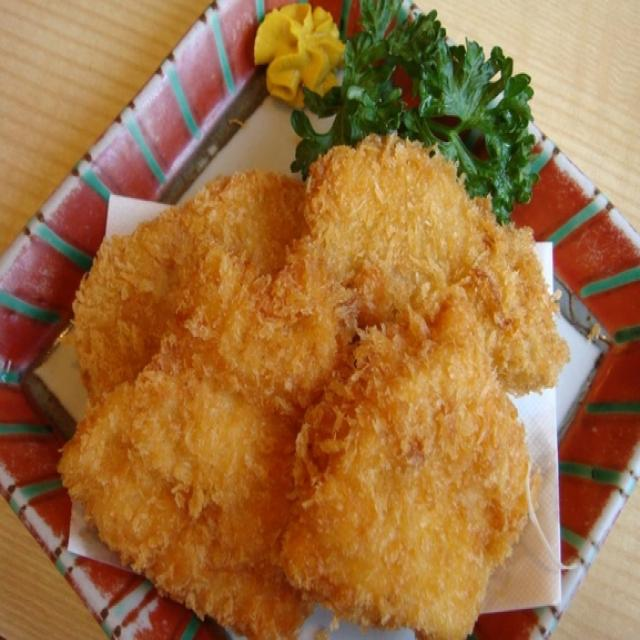牛肉菜式: (33, 87, 598, 621)
